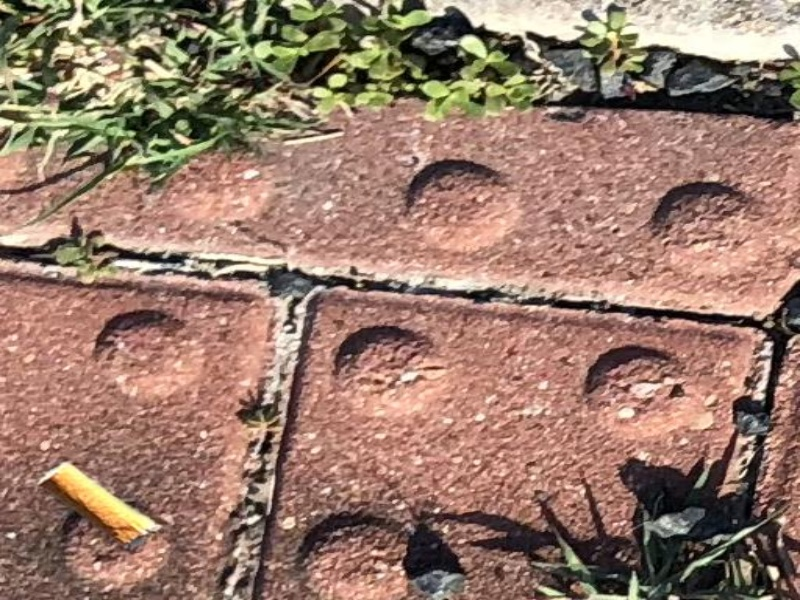cig: (39, 454, 168, 551)
